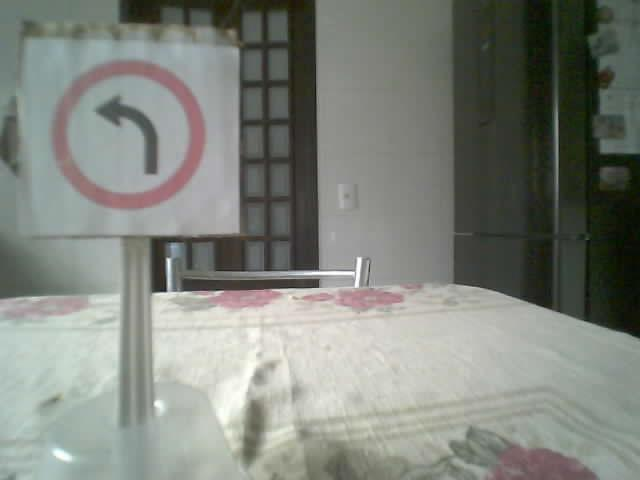R-25a_esquerda: (50, 59, 207, 210)
